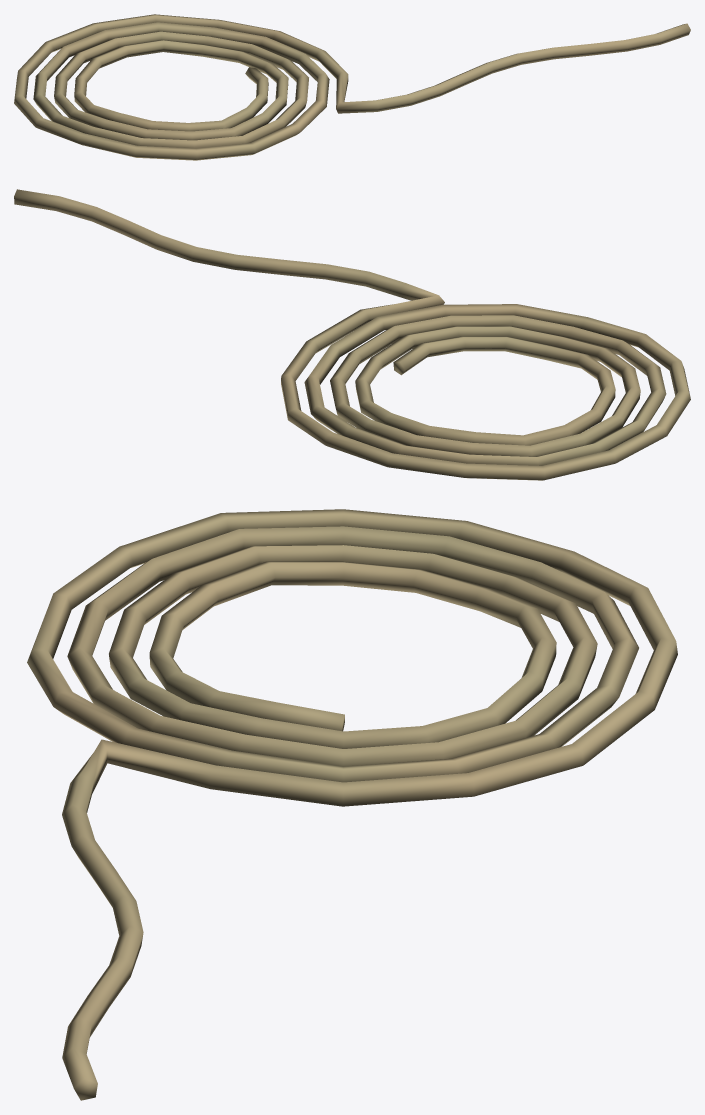
File: boat_mooring_rope.glb
3 views of the same model, one above another, from view 1: azimuth 30°, elevation 25°; view 2: azimuth 150°, elevation 25°; view 3: azimuth 270°, elevation 25° (orthographic). The views are drawn at different scales.
Parts seen in each view (by area): view 1: boat_mooring_rope_LOD0; view 2: boat_mooring_rope_LOD0; view 3: boat_mooring_rope_LOD0.
Boxes of the visible parts, x1,y1,x2,y2 form: boat_mooring_rope_LOD0: (14, 14, 690, 160); boat_mooring_rope_LOD0: (14, 189, 690, 480); boat_mooring_rope_LOD0: (27, 509, 677, 1100).
Size of what is drawn, in the model's own units: 0.9443 by 0.0277 by 0.4526.
